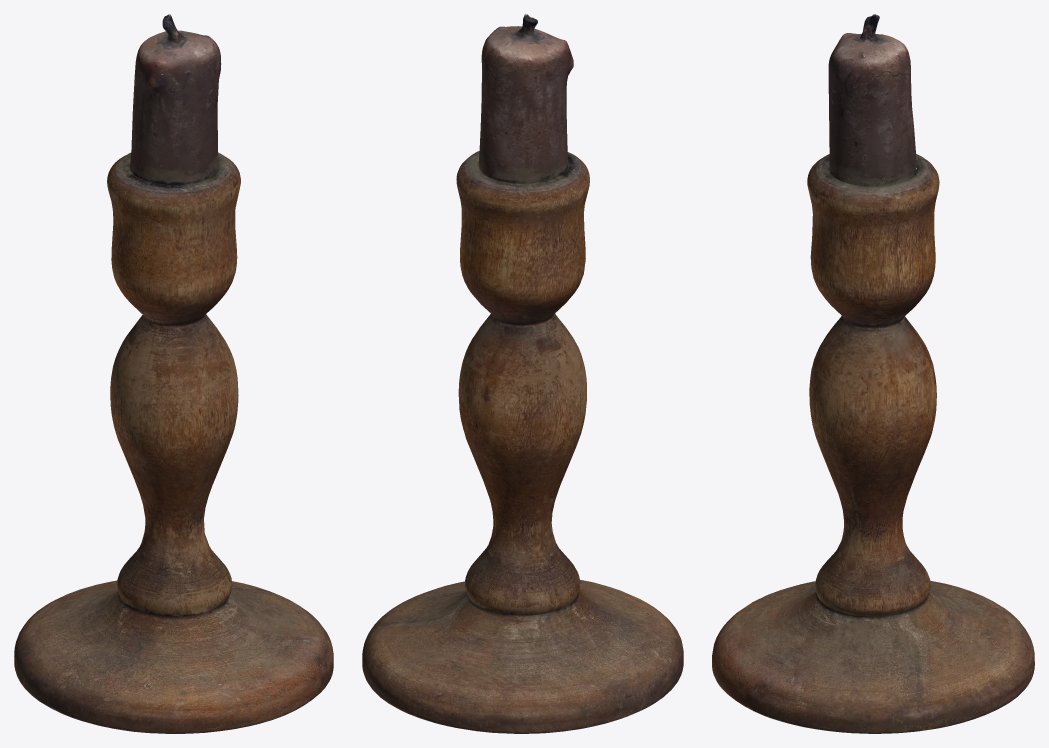
Rendered from candlestick.glb.
3 views of the same model, side by side, from view 1: azimuth 30°, elevation 25°; view 2: azimuth 150°, elevation 25°; view 3: azimuth 270°, elevation 25° (orthographic).
Visible parts, largest first — view 1: wooden_candlestick; view 2: wooden_candlestick; view 3: wooden_candlestick.
Part boxes in pixels (box(x1,y1,x2,y2)): wooden_candlestick: box(14, 14, 333, 733); wooden_candlestick: box(362, 14, 683, 733); wooden_candlestick: box(712, 14, 1034, 733).
Size of the model in its own units: 0.0972 by 0.2196 by 0.0986.
1 material, 1 textured.
